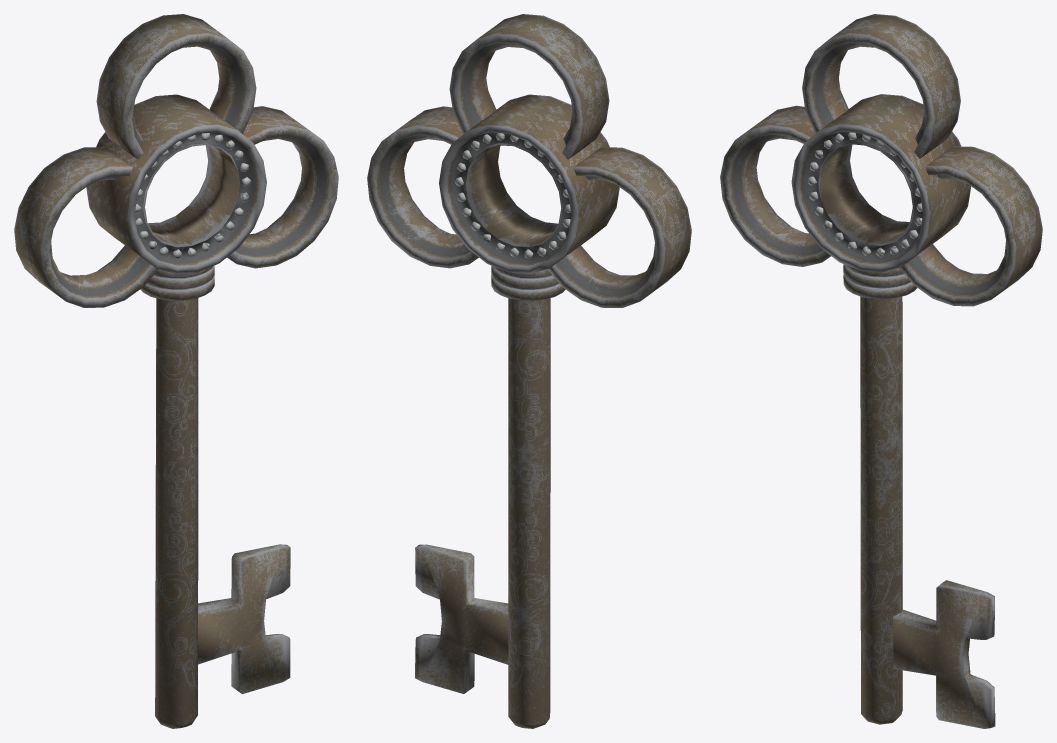
Rendered from key_10.glb.
The picture shows the model from 3 angles, left to right: view 1: azimuth 30°, elevation 25°; view 2: azimuth 150°, elevation 25°; view 3: azimuth 330°, elevation 25°; orthographic projection.
Parts seen in each view (by area): view 1: Key; view 2: Key; view 3: Key.
Part boxes in pixels (x1=…): Key: x1=14, y1=14, x2=338, y2=728; Key: x1=367, y1=14, x2=691, y2=728; Key: x1=720, y1=14, x2=1042, y2=728.
Bounding box in the file's own units: 0.058 × 0.13 × 0.0142.
Materials: 1 (1 with a texture image).
